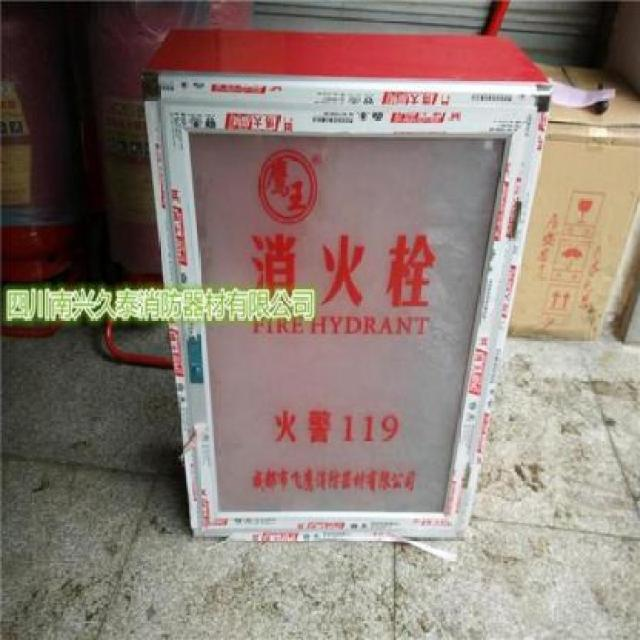firehydrant: (135, 24, 557, 552)
